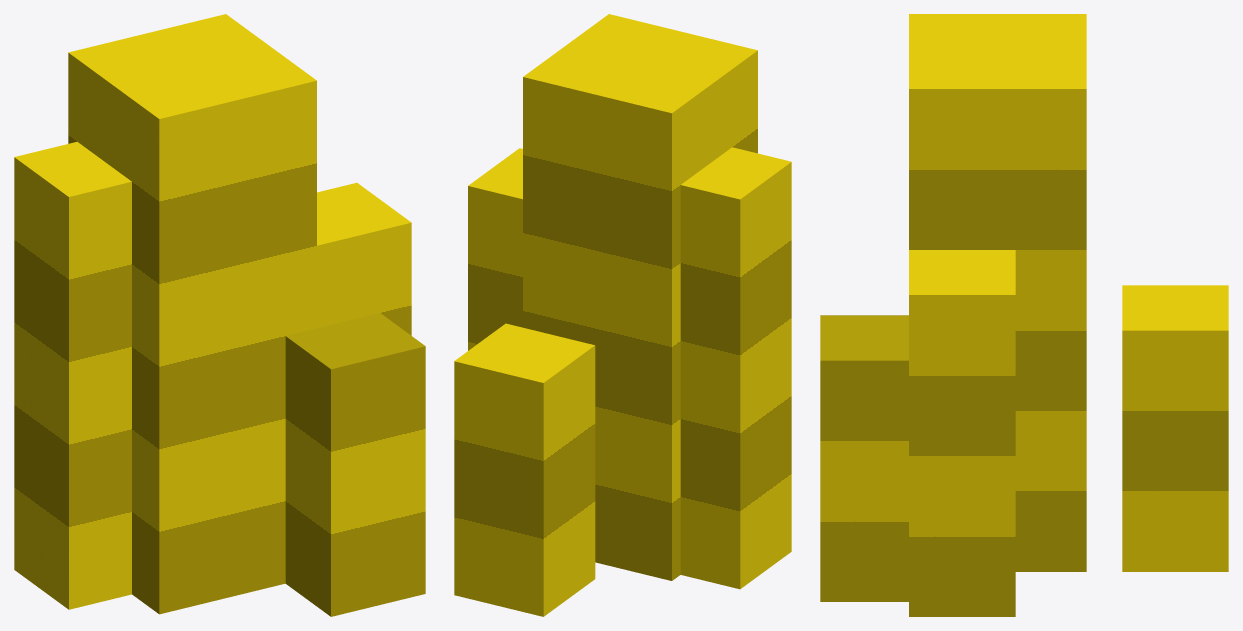
The model's file is GoldObject.fbx.
The picture shows the model from 3 angles, left to right: view 1: azimuth 30°, elevation 25°; view 2: azimuth 150°, elevation 25°; view 3: azimuth 270°, elevation 25°; orthographic projection. The views are drawn at different scales.
Parts seen in each view (by area): view 1: cube, cube_1, cube_3, cube_4; view 2: cube, cube_1, cube_2, cube_4; view 3: cube, cube_4, cube_2, cube_3.
Part boxes in pixels (x1=…): cube: x1=68, y1=14, x2=316, y2=614; cube_1: x1=14, y1=141, x2=131, y2=609; cube_3: x1=285, y1=313, x2=425, y2=616; cube_4: x1=317, y1=182, x2=411, y2=335; cube: x1=523, y1=14, x2=757, y2=580; cube_1: x1=680, y1=147, x2=791, y2=589; cube_2: x1=454, y1=323, x2=595, y2=616; cube_4: x1=468, y1=148, x2=522, y2=350; cube: x1=909, y1=14, x2=1086, y2=571; cube_4: x1=909, y1=250, x2=1015, y2=616; cube_2: x1=1122, y1=285, x2=1228, y2=571; cube_3: x1=820, y1=315, x2=908, y2=601.
Bounding box in the file's own units: 12.5 × 18.75 × 14.38.
Materials: 1 (1 with a texture image).
